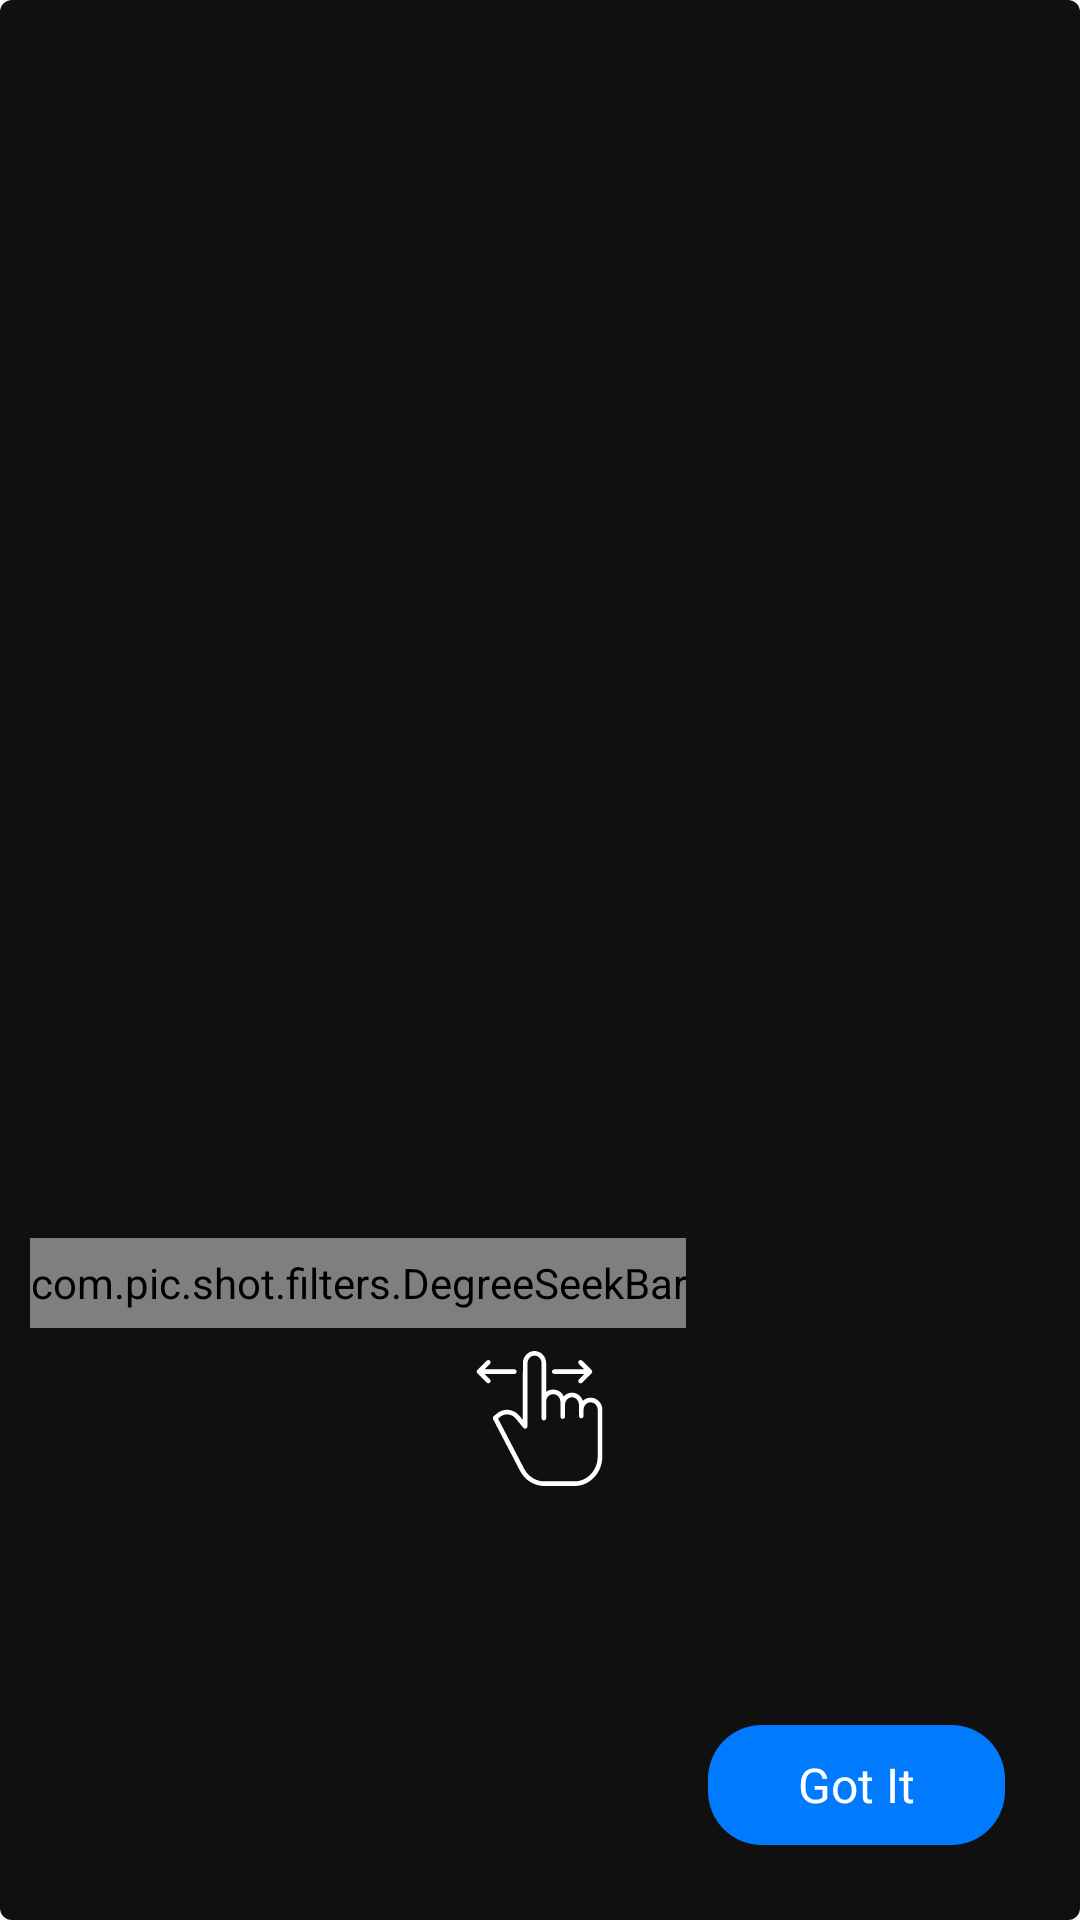

Screen size 1080px x 1920px. Icon name, then its center in pixels as (x,y):
swipe: (539,1418)
